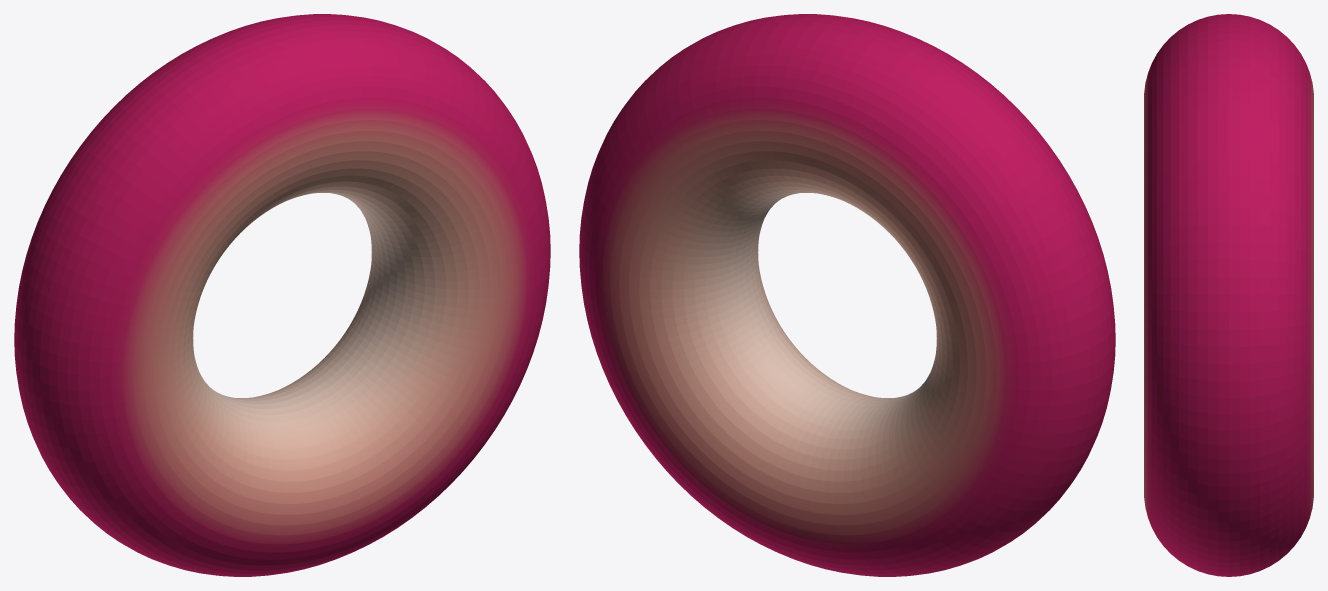
3 renders of one model, left to right at view 1: azimuth 30°, elevation 25°; view 2: azimuth 150°, elevation 25°; view 3: azimuth 270°, elevation 25°, orthographic. The views are drawn at different scales.
Parts seen in each view (by area): view 1: world; view 2: world; view 3: world.
Boxes of the visible parts, x1,y1,x2,y2 form: world: [14, 14, 550, 576]; world: [579, 14, 1115, 576]; world: [1144, 14, 1313, 576].
Size of the model in its own units: 28.67 by 28.67 by 8.65.
